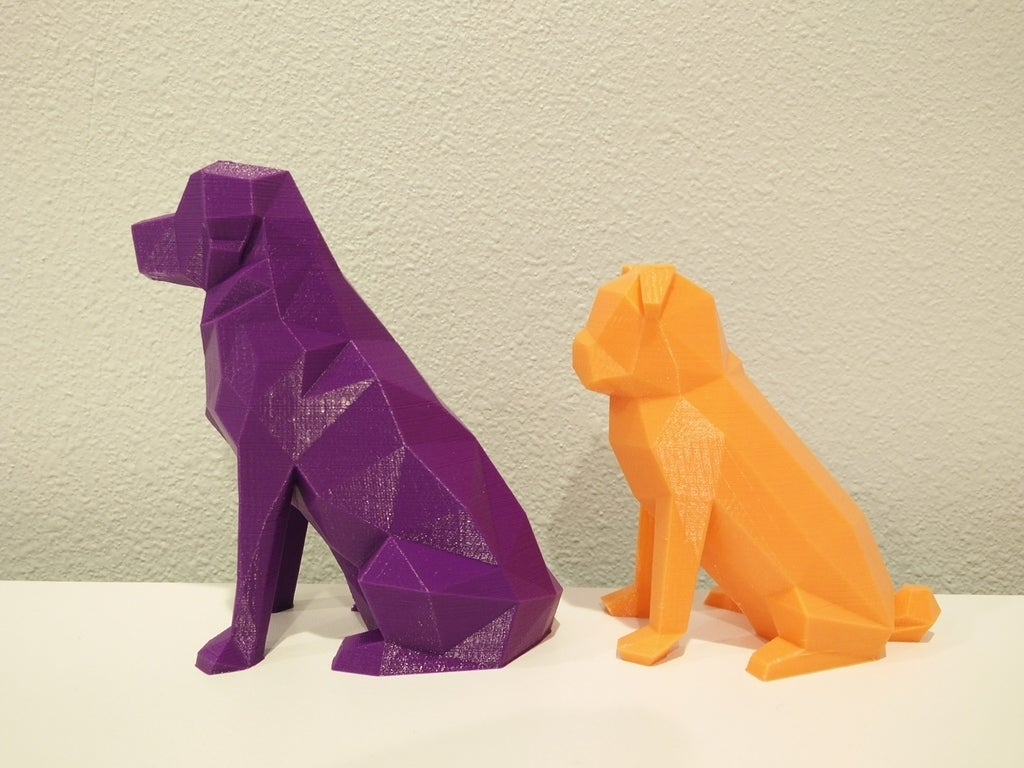Good: (70, 113, 1000, 709)
